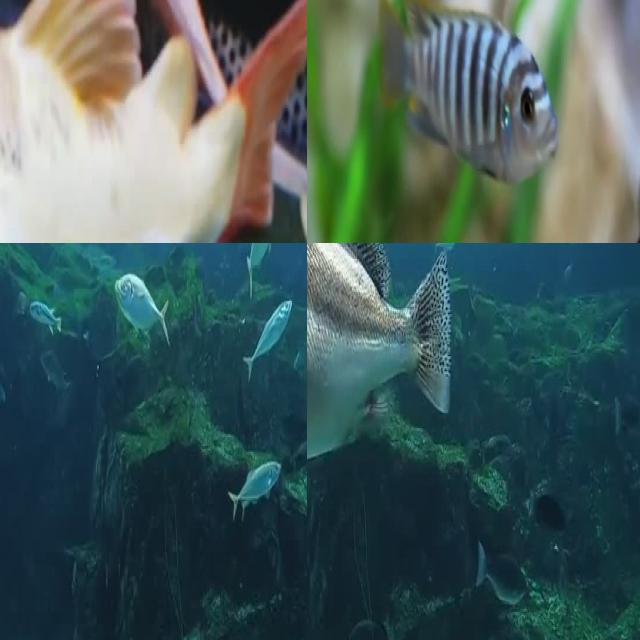fish: (0, 0, 307, 243)
